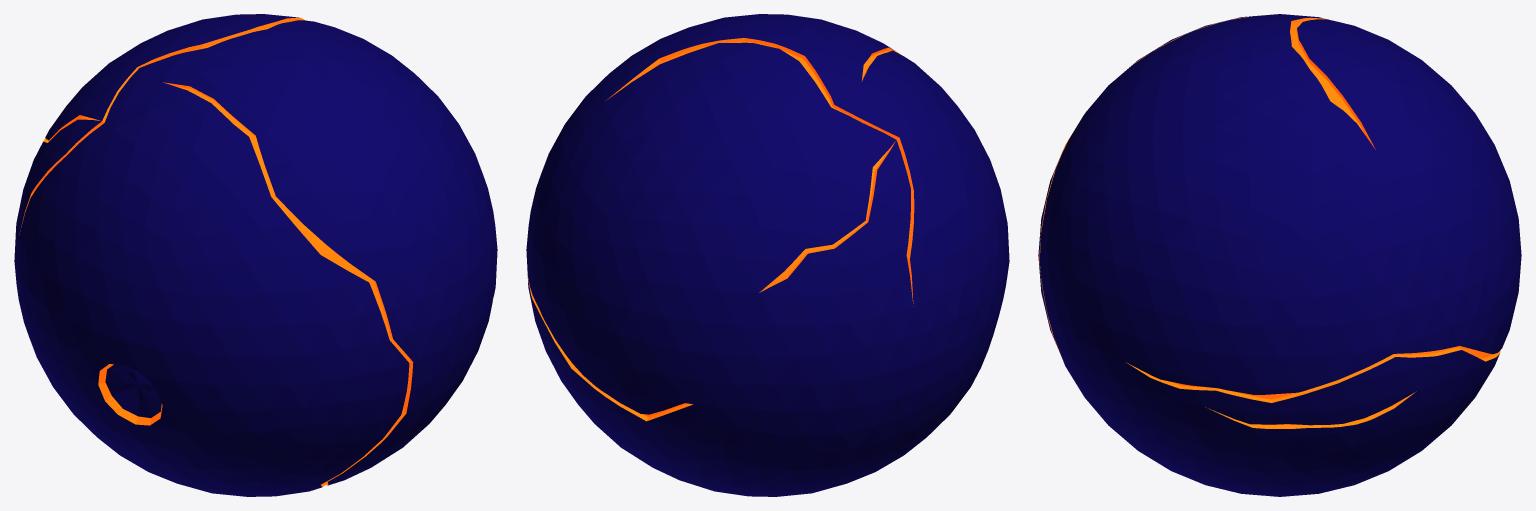
The model's file is Planet11.glb.
3 views of the same model, side by side, from view 1: azimuth 30°, elevation 25°; view 2: azimuth 150°, elevation 25°; view 3: azimuth 270°, elevation 25° (orthographic).
Parts seen in each view (by area): view 1: Planet11; view 2: Planet11; view 3: Planet11.
Part boxes in pixels (<box>): Planet11: <box>14,14,497,496</box>; Planet11: <box>526,14,1009,496</box>; Planet11: <box>1038,14,1521,496</box>.
Size of the model in its own units: 10 by 10 by 10.
